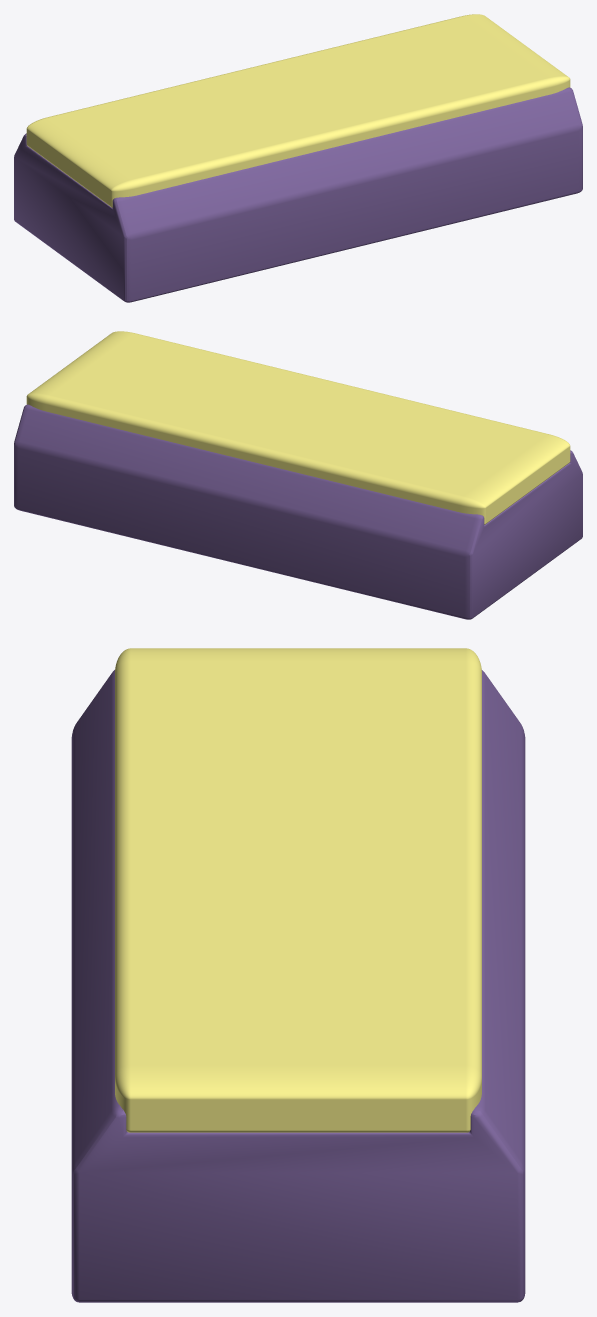
The picture shows the model from 3 angles, top to bottom: view 1: azimuth 30°, elevation 25°; view 2: azimuth 150°, elevation 25°; view 3: azimuth 270°, elevation 25°; orthographic projection. The views are drawn at different scales.
Parts seen in each view (by area): view 1: Cube.012, Plane.015; view 2: Cube.012, Plane.015; view 3: Plane.015, Cube.012.
Boxes of the visible parts, x1,y1,x2,y2 form: Cube.012: (14,87,582,302); Plane.015: (26,14,570,207); Cube.012: (14,404,582,619); Plane.015: (26,331,570,524); Plane.015: (115,648,481,1132); Cube.012: (71,670,525,1302).
Bounding box in the file's own units: 311 × 70.78 × 133.
